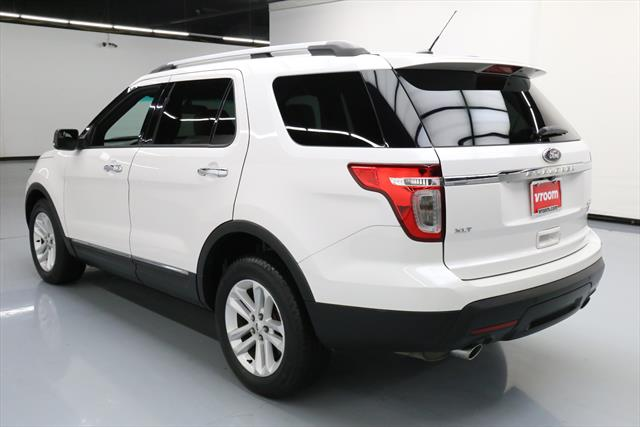Ford Explorer: (23, 38, 610, 402)
